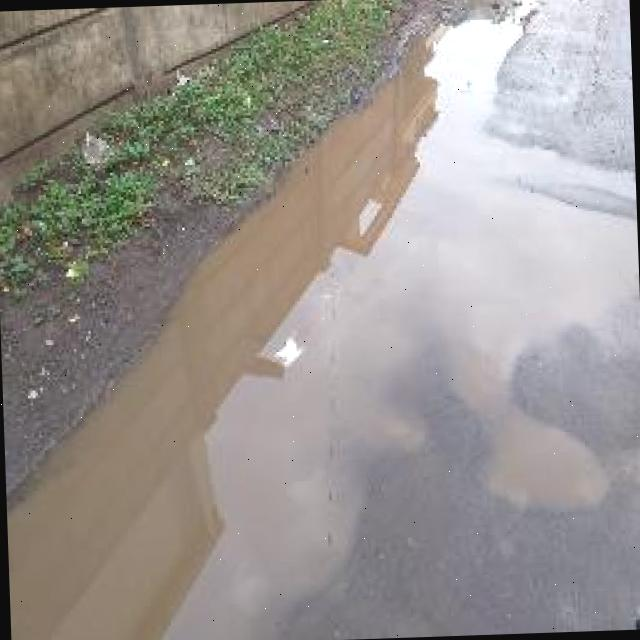stagnation: (426, 310, 628, 550), (387, 0, 553, 131)
